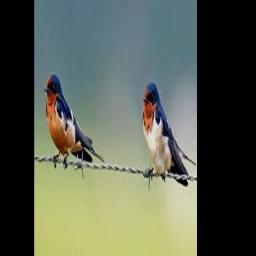Swallow: (43, 73, 104, 167), (142, 82, 196, 186)
